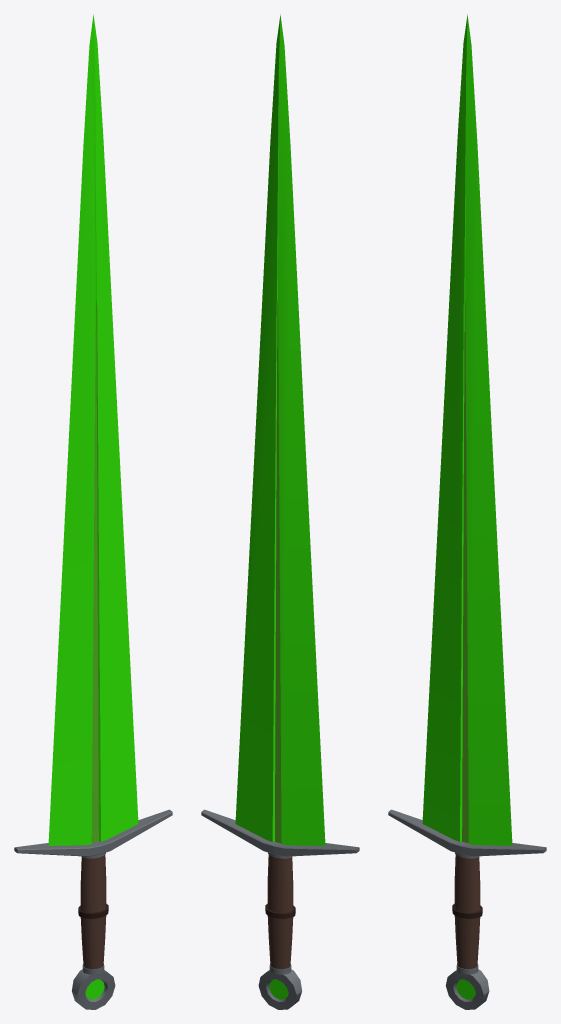
File: SM_Sword06_Dagesse__7Fantasy_Green.fbx
The picture shows the model from 3 angles, left to right: view 1: azimuth 30°, elevation 25°; view 2: azimuth 150°, elevation 25°; view 3: azimuth 330°, elevation 25°; orthographic projection.
Visible parts, largest first — view 1: Cube.367, Cylinder.494, Cube.366, Cylinder.495; view 2: Cube.367, Cylinder.494, Cube.366, Cylinder.495; view 3: Cube.367, Cylinder.494, Cube.366, Cylinder.495.
Boxes of the visible parts, x1,y1,x2,y2 form: Cube.367: (48, 14, 138, 845); Cylinder.494: (78, 852, 108, 974); Cube.366: (14, 809, 172, 856); Cylinder.495: (72, 969, 115, 1009); Cube.367: (235, 14, 325, 845); Cylinder.494: (265, 852, 295, 974); Cube.366: (201, 809, 359, 856); Cylinder.495: (258, 969, 301, 1009); Cube.367: (422, 14, 512, 845); Cylinder.494: (452, 852, 482, 974); Cube.366: (388, 809, 546, 856); Cylinder.495: (445, 969, 489, 1009).
Bounding box in the file's own units: 0.154 × 0.9449 × 0.0231.
